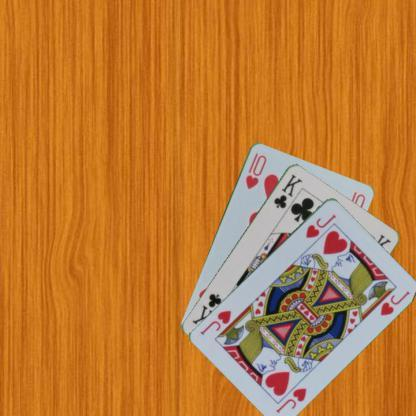10h: (242, 150, 268, 190)
Jh: (303, 210, 338, 240), (273, 384, 308, 414)
Kc: (270, 172, 304, 209)
